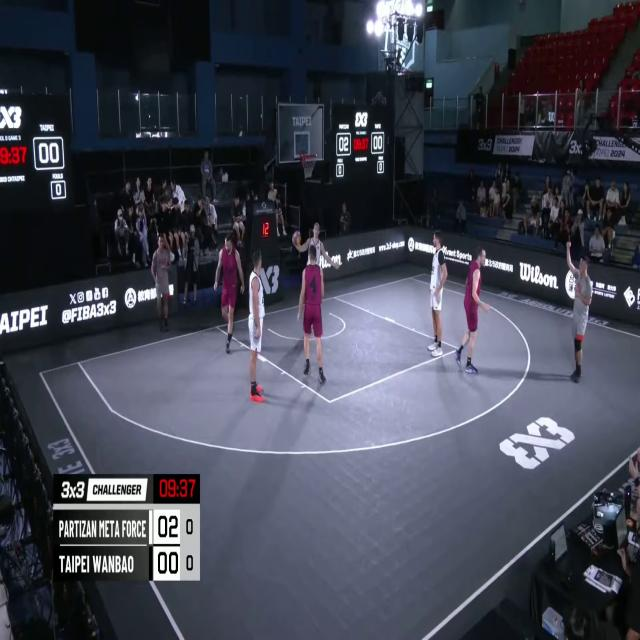ball: (291, 229, 301, 247)
hoop: (300, 151, 318, 179)
player: (288, 218, 338, 337), (454, 245, 491, 375), (297, 246, 325, 386), (214, 231, 244, 360), (243, 246, 264, 399), (428, 228, 447, 360)
